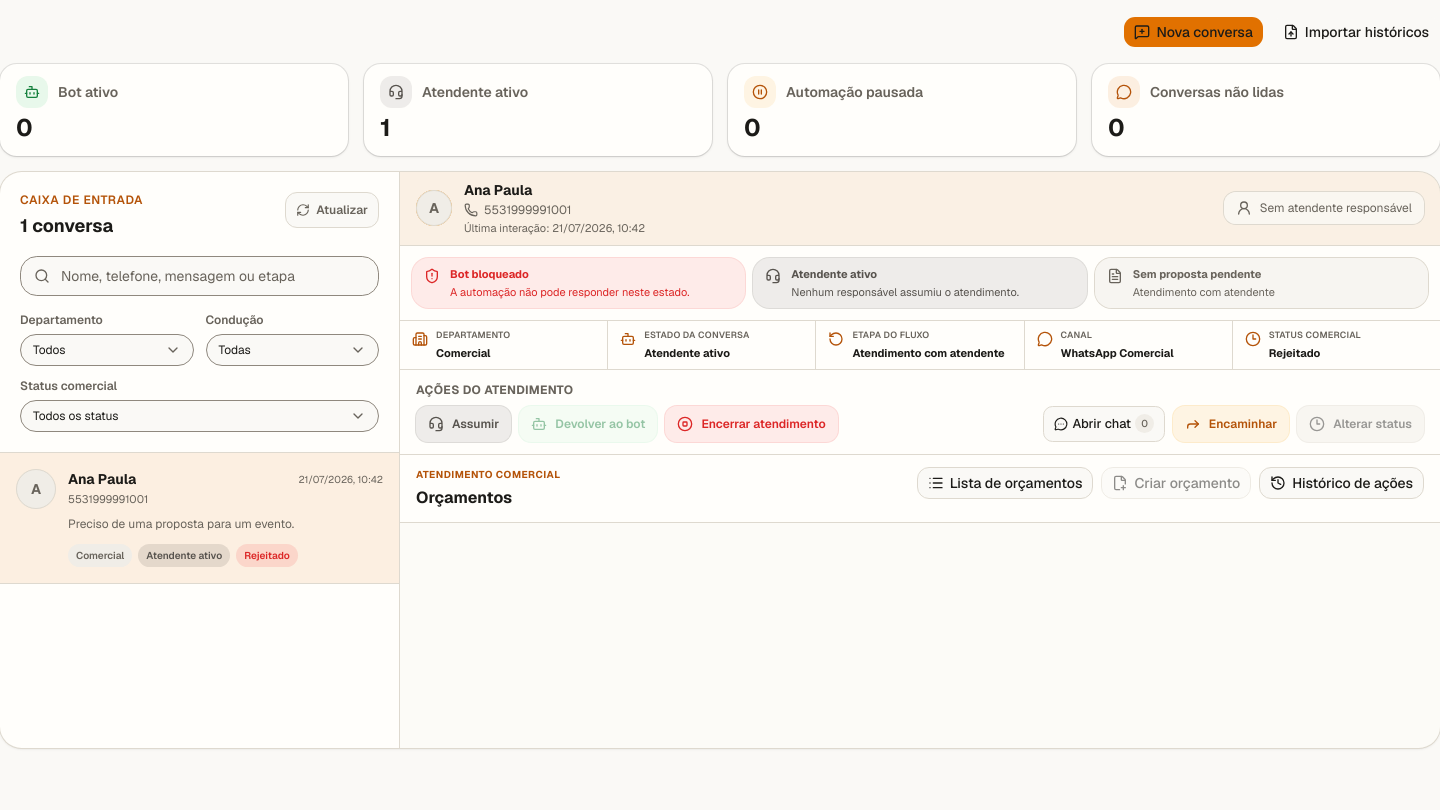
Test case: ConversationWorkspace › confirma e encerra um atendimento cuja proposta foi recusada
Step 1. Click the button "Encerrar atendimento" → (752, 424), box [665,406,838,442]
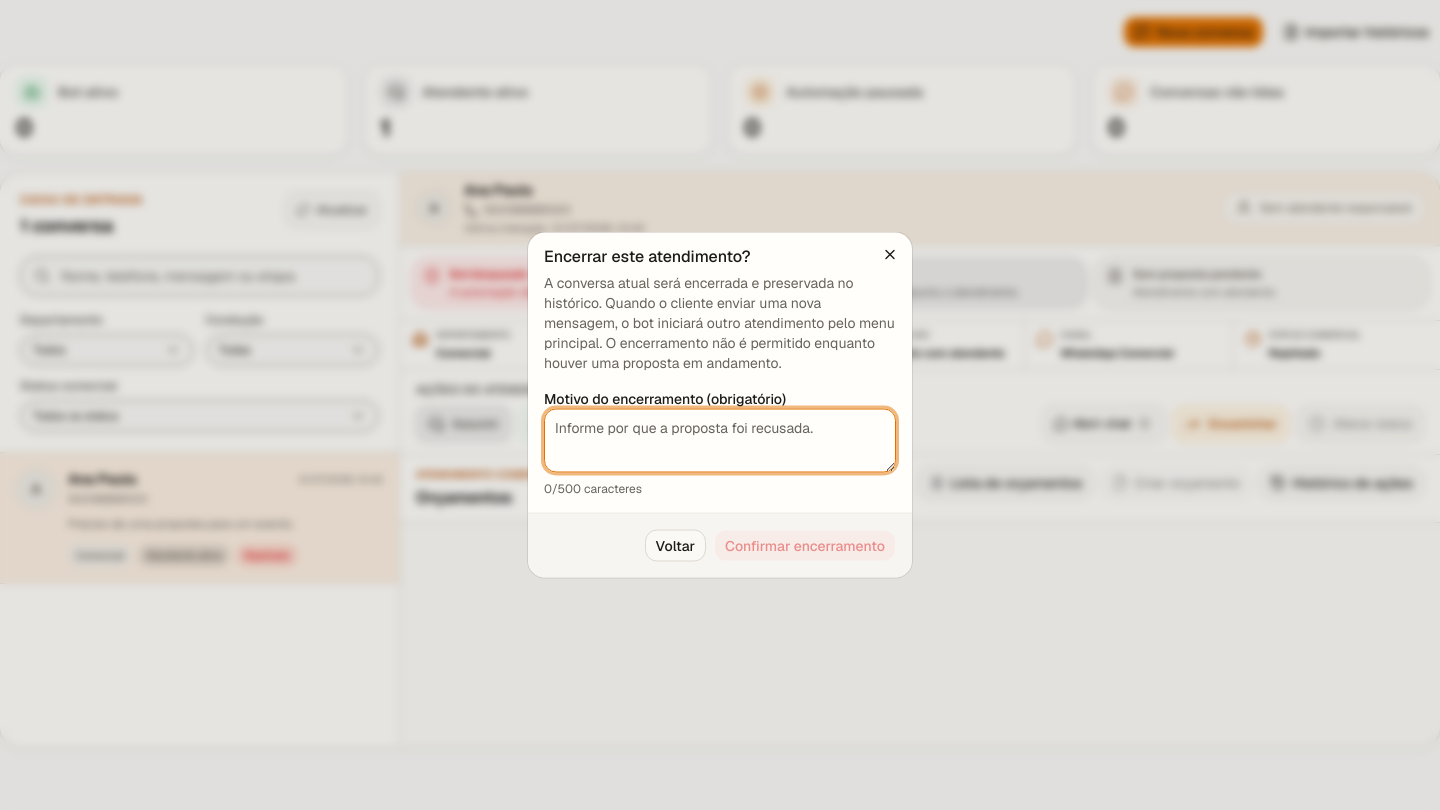
Expected: the dialog shows "Quando o cliente enviar uma nova mensagem, o bot iniciará outro atendimento", [544,274,895,372]
Expected: the button "Confirmar encerramento" is disabled, [714,530,896,562]
Step 2. Type "Cliente recusou o valor da proposta." into the text box labelled "Motivo do encerramento (obrigatório)" → (720, 440), box [544,408,896,472]
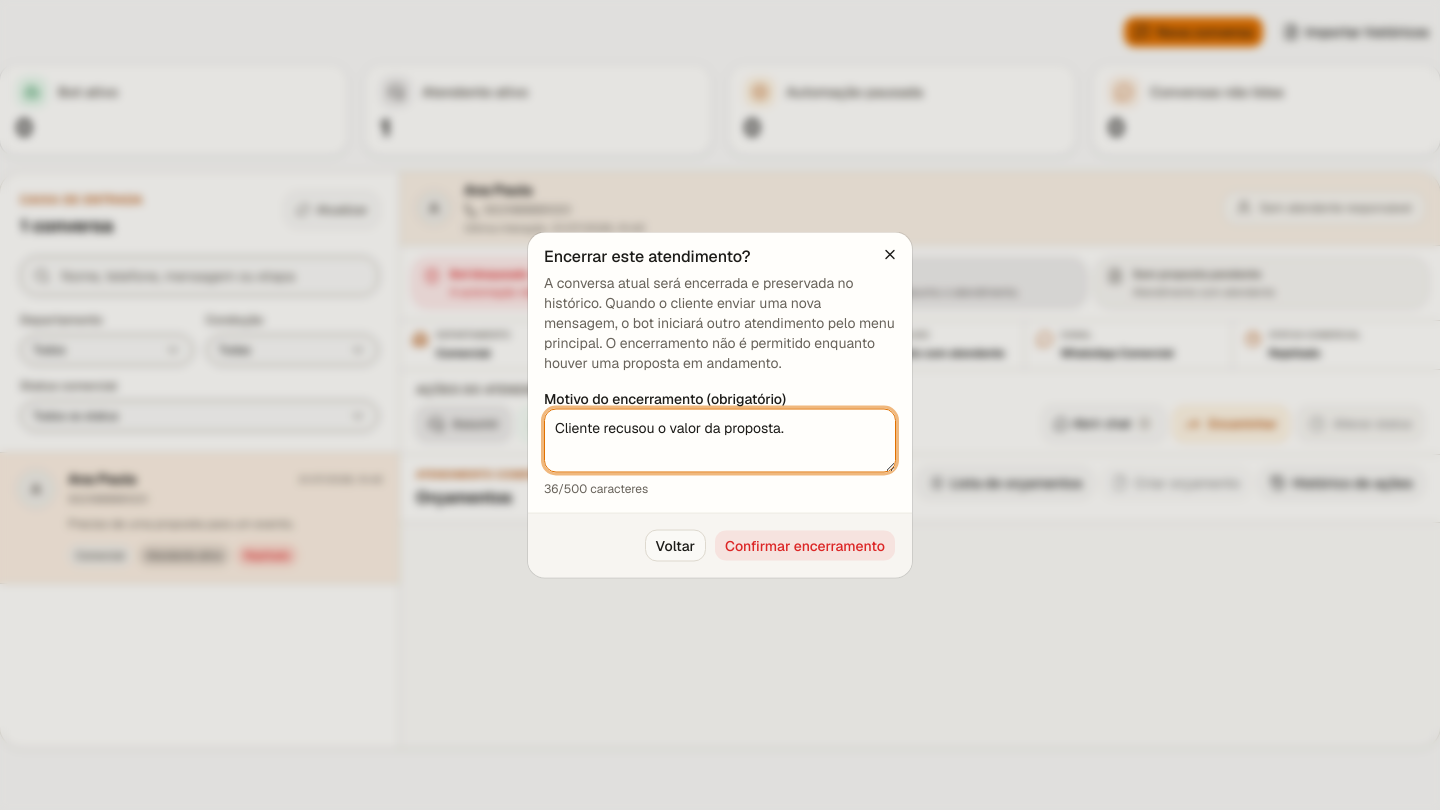
Step 3. Click the button "Confirmar encerramento" → (805, 546), box [714,530,896,562]
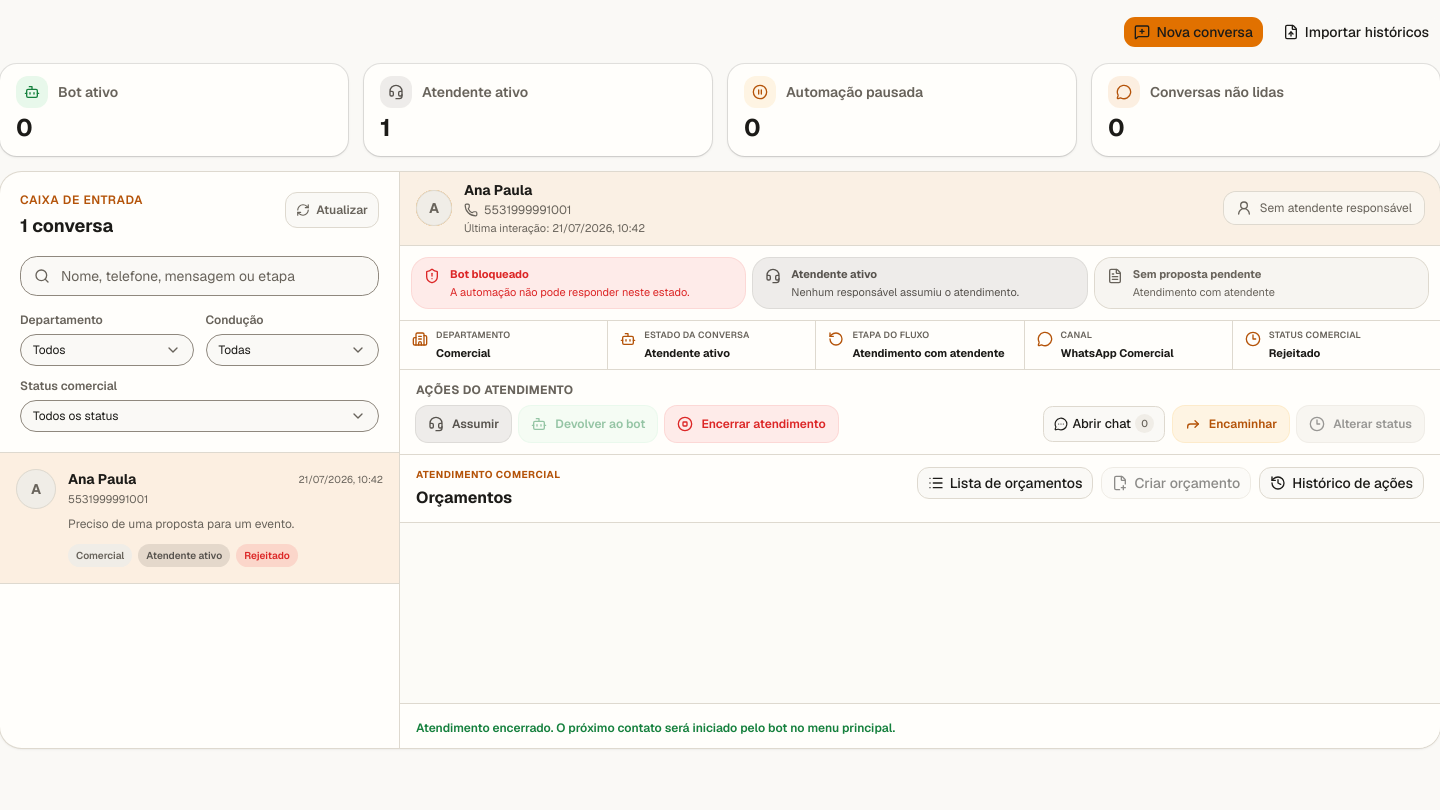
Expected: the text "Atendimento encerrado. O próximo contato" is shown, [416,720,895,736]
